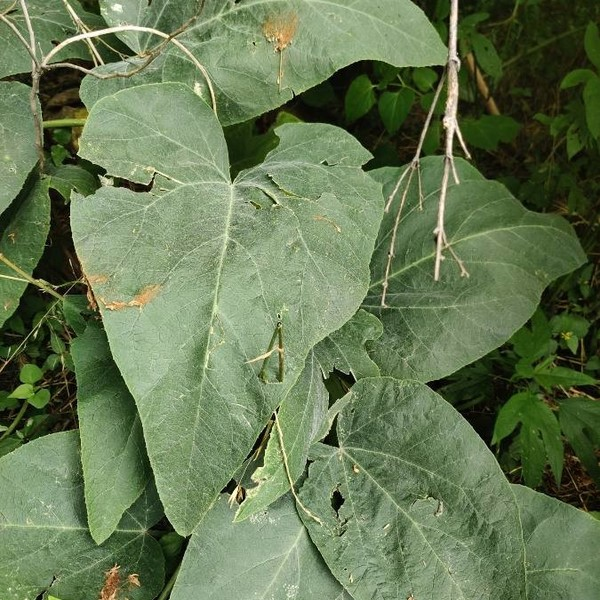obstacle: (56, 44, 528, 550)
